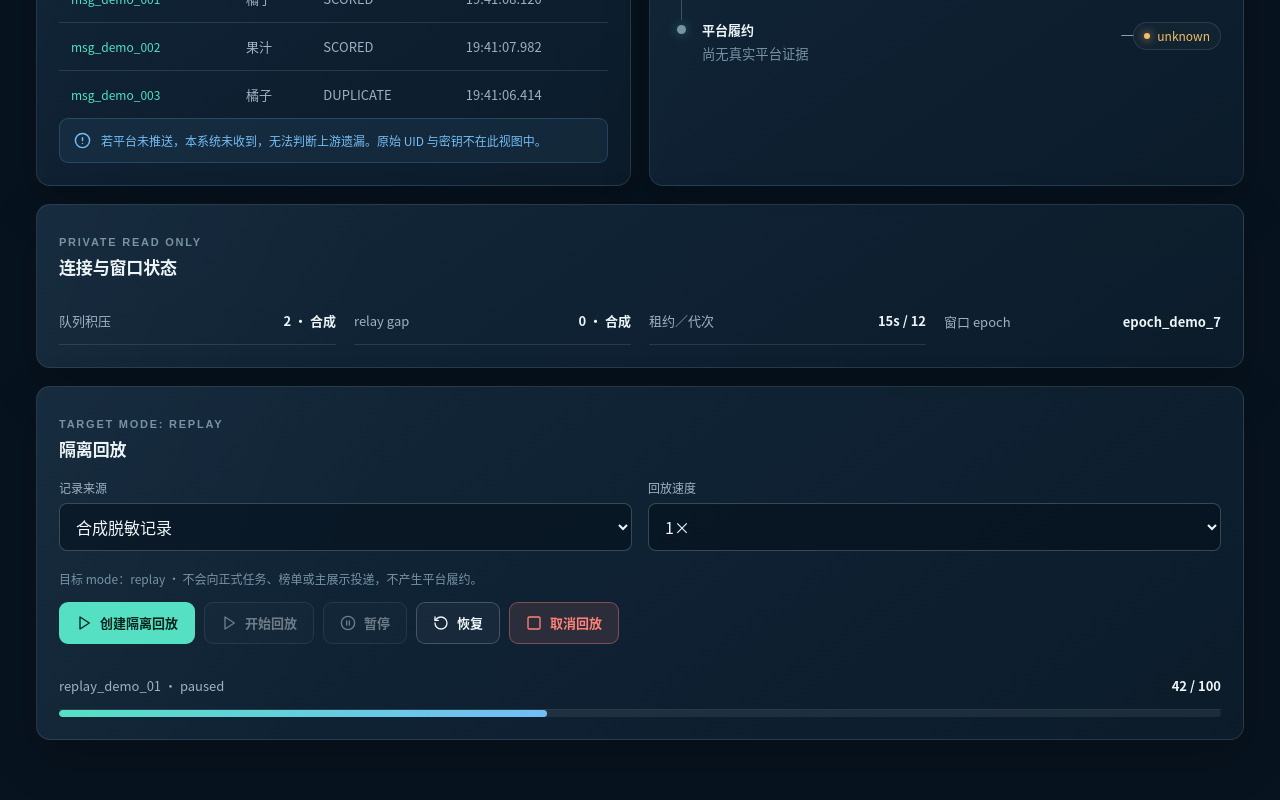
Test case: 运行诊断与隔离回放 › 回放命令按 job 状态启用，取消需要二次确认
(page scrolled)
Expected: the button "开始回放" is disabled, [204, 602, 314, 644]
Expected: the button "暂停" is disabled, [323, 602, 407, 644]
Step 1. Click the button "恢复" → (458, 623), box [416, 602, 500, 644]
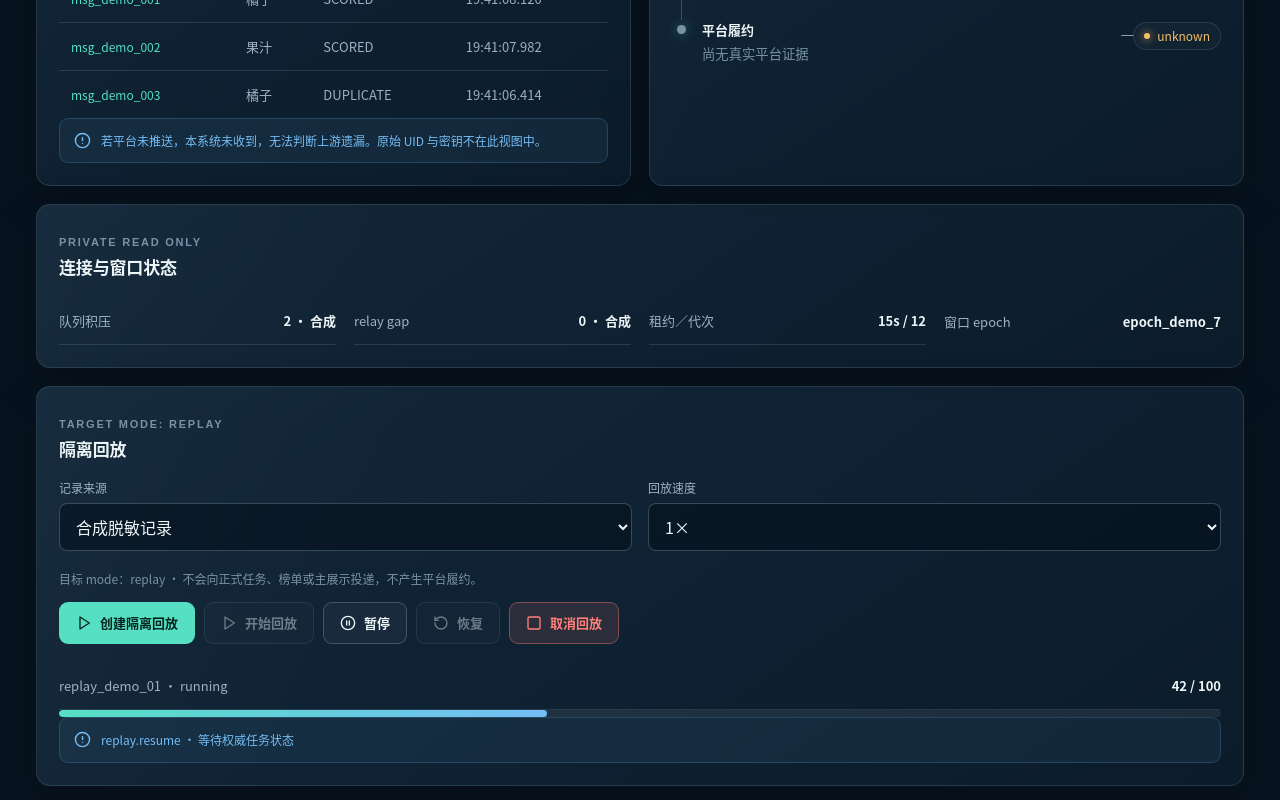
Result: the text "replay_demo_01 · running" is shown at [59, 676, 228, 695]
Result: the button "暂停" is enabled at [323, 602, 407, 644]
Step 2. Click the button "取消回放" → (564, 623), box [509, 602, 619, 644]
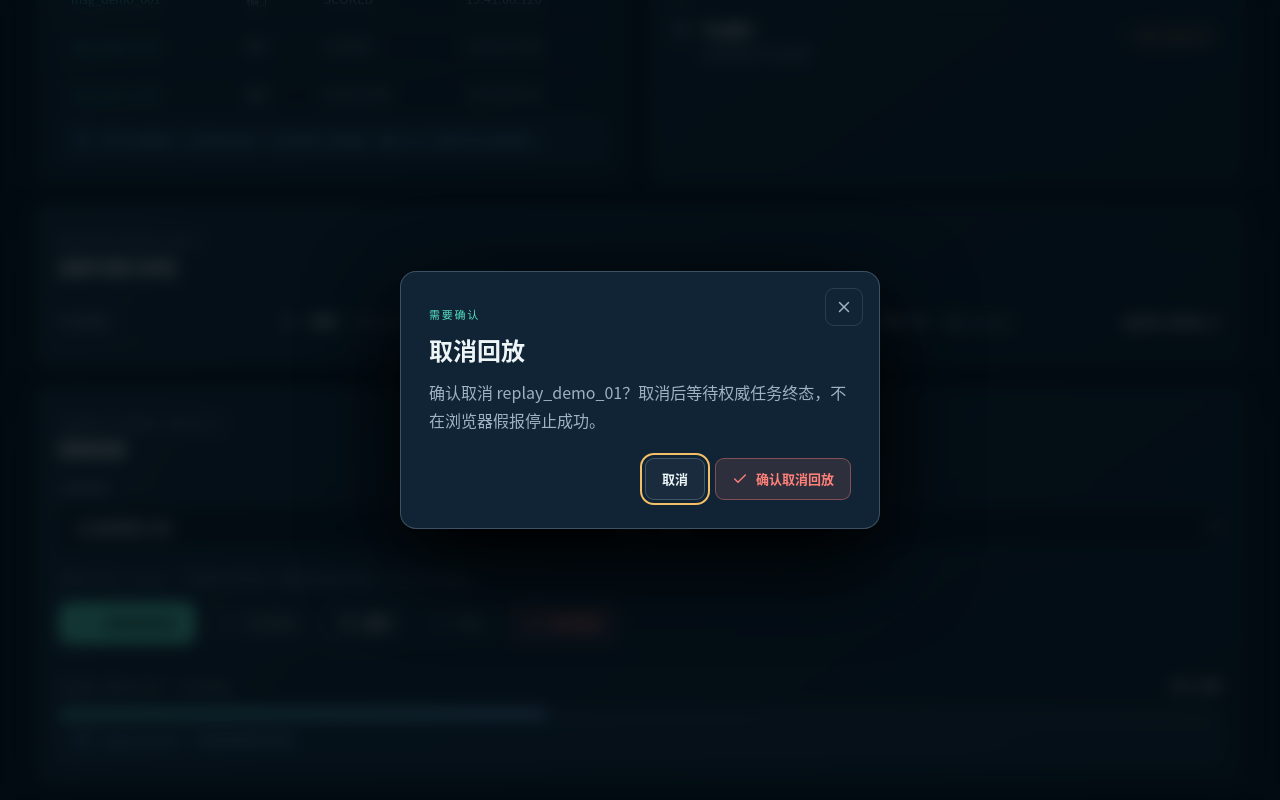
Result: the dialog shows "取消后等待权威任务终态" at [429, 380, 846, 432]
Step 3. Click the button "确认取消回放" → (783, 479), box [715, 458, 851, 500]
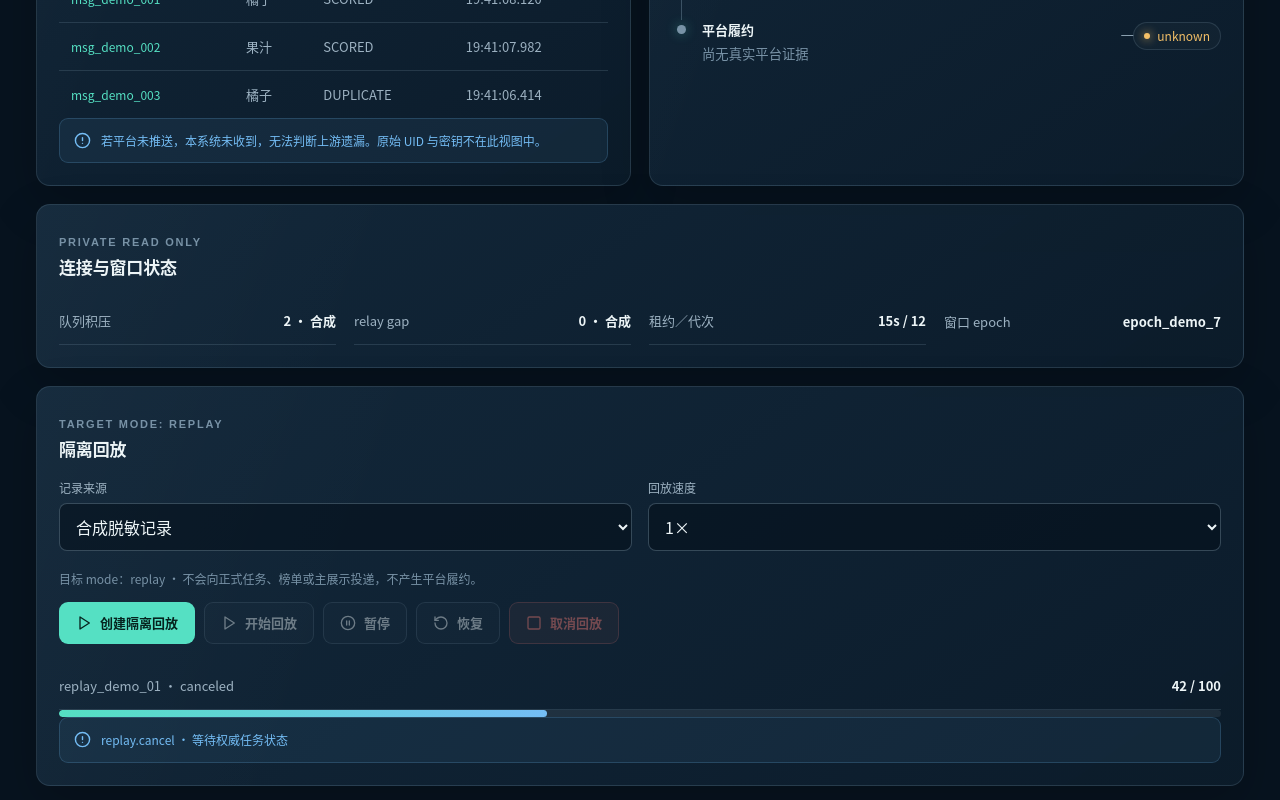
Result: the text "replay_demo_01 · canceled" is shown at [59, 676, 234, 695]
